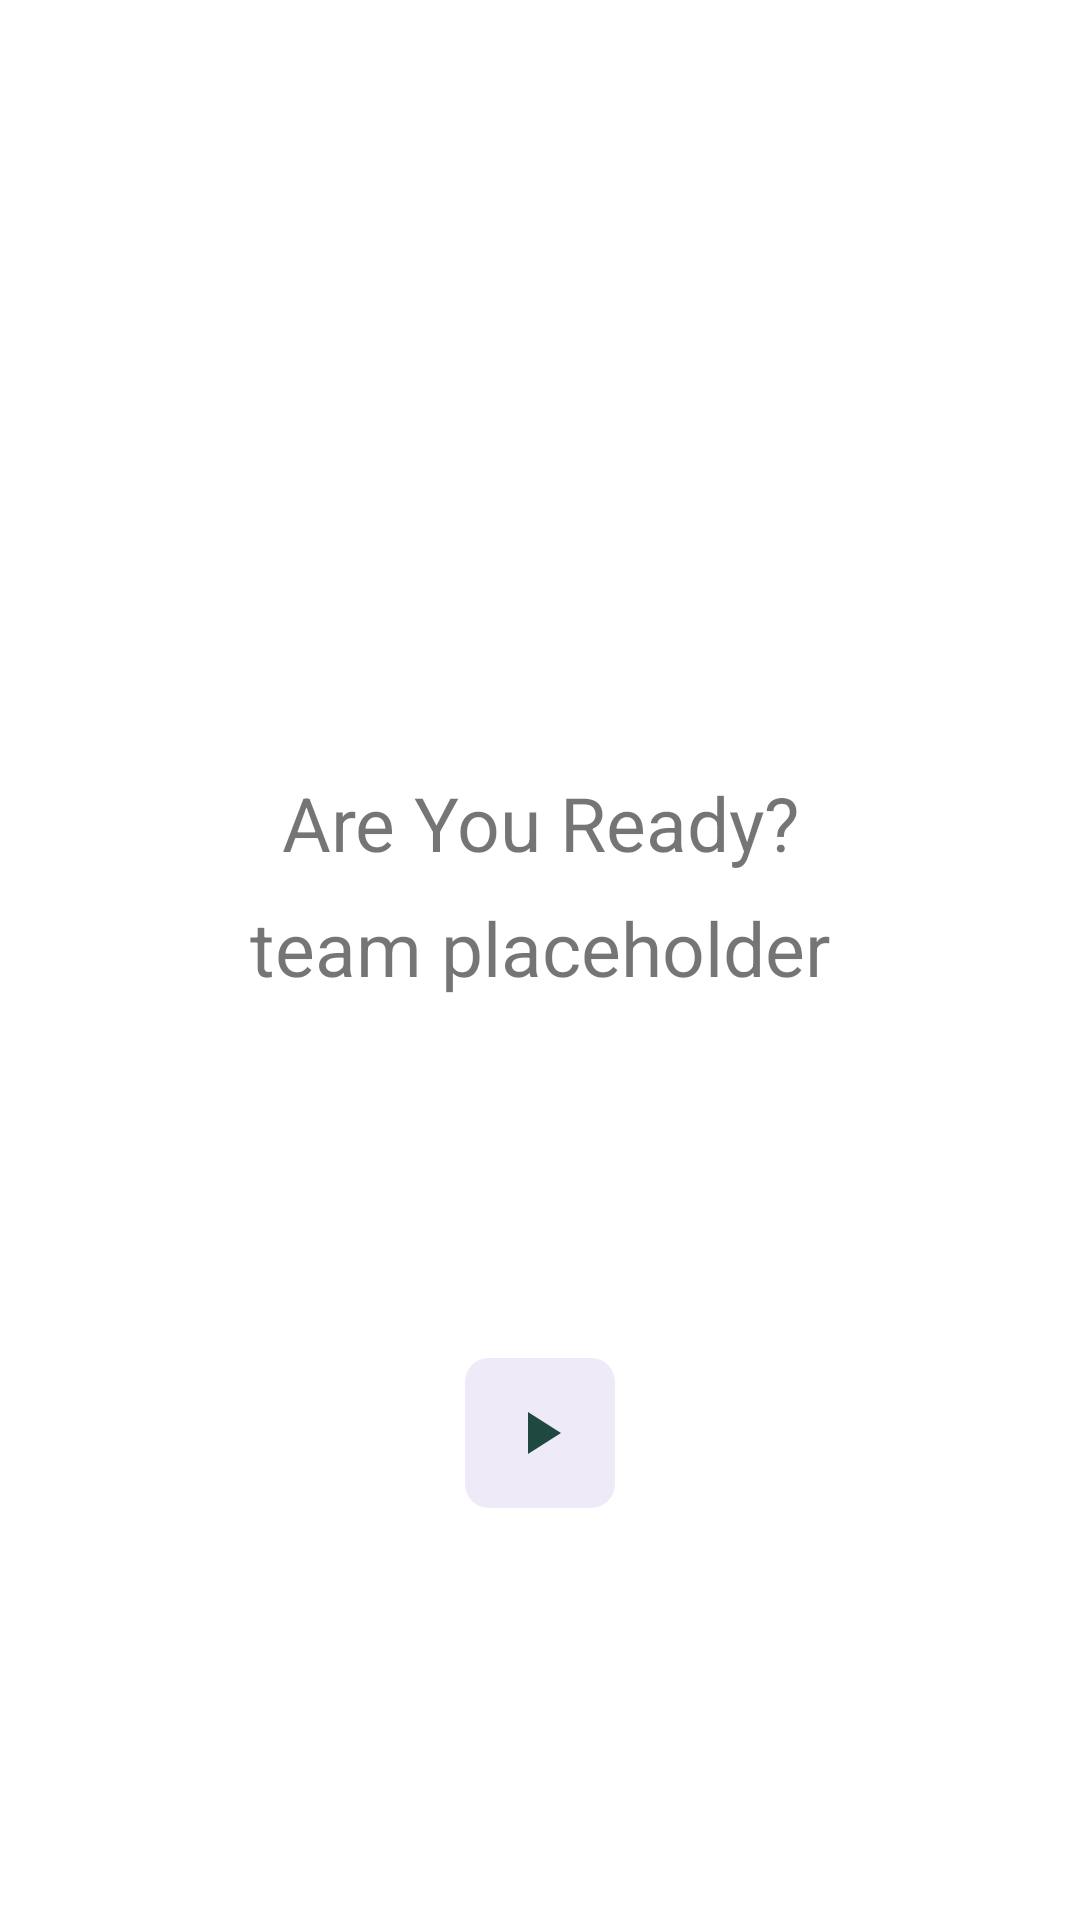

Icons on this 1080×1920 Android screen, each with its box as [x1,y1,x2,y2]:
play arrow: [528,1412,561,1454]
